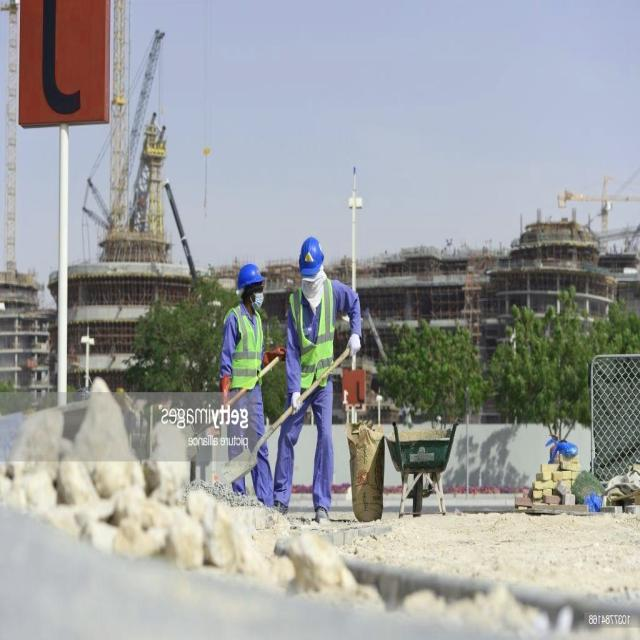face_mask: (245, 284, 267, 314)
hand_glove: (263, 340, 289, 371), (289, 386, 307, 426), (344, 337, 364, 364)
head_helmet: (298, 238, 328, 274), (236, 262, 267, 292)
person: (281, 236, 341, 513), (222, 266, 266, 497)
vest: (286, 285, 334, 391), (225, 316, 262, 386)
